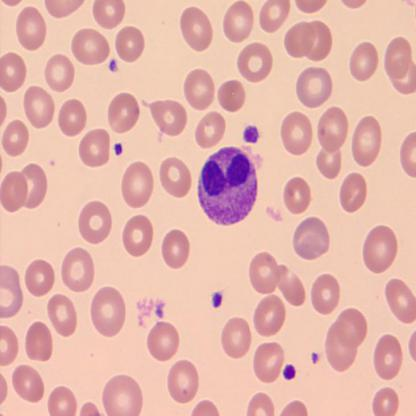Segmented neutrophil: (196, 143, 260, 227)
